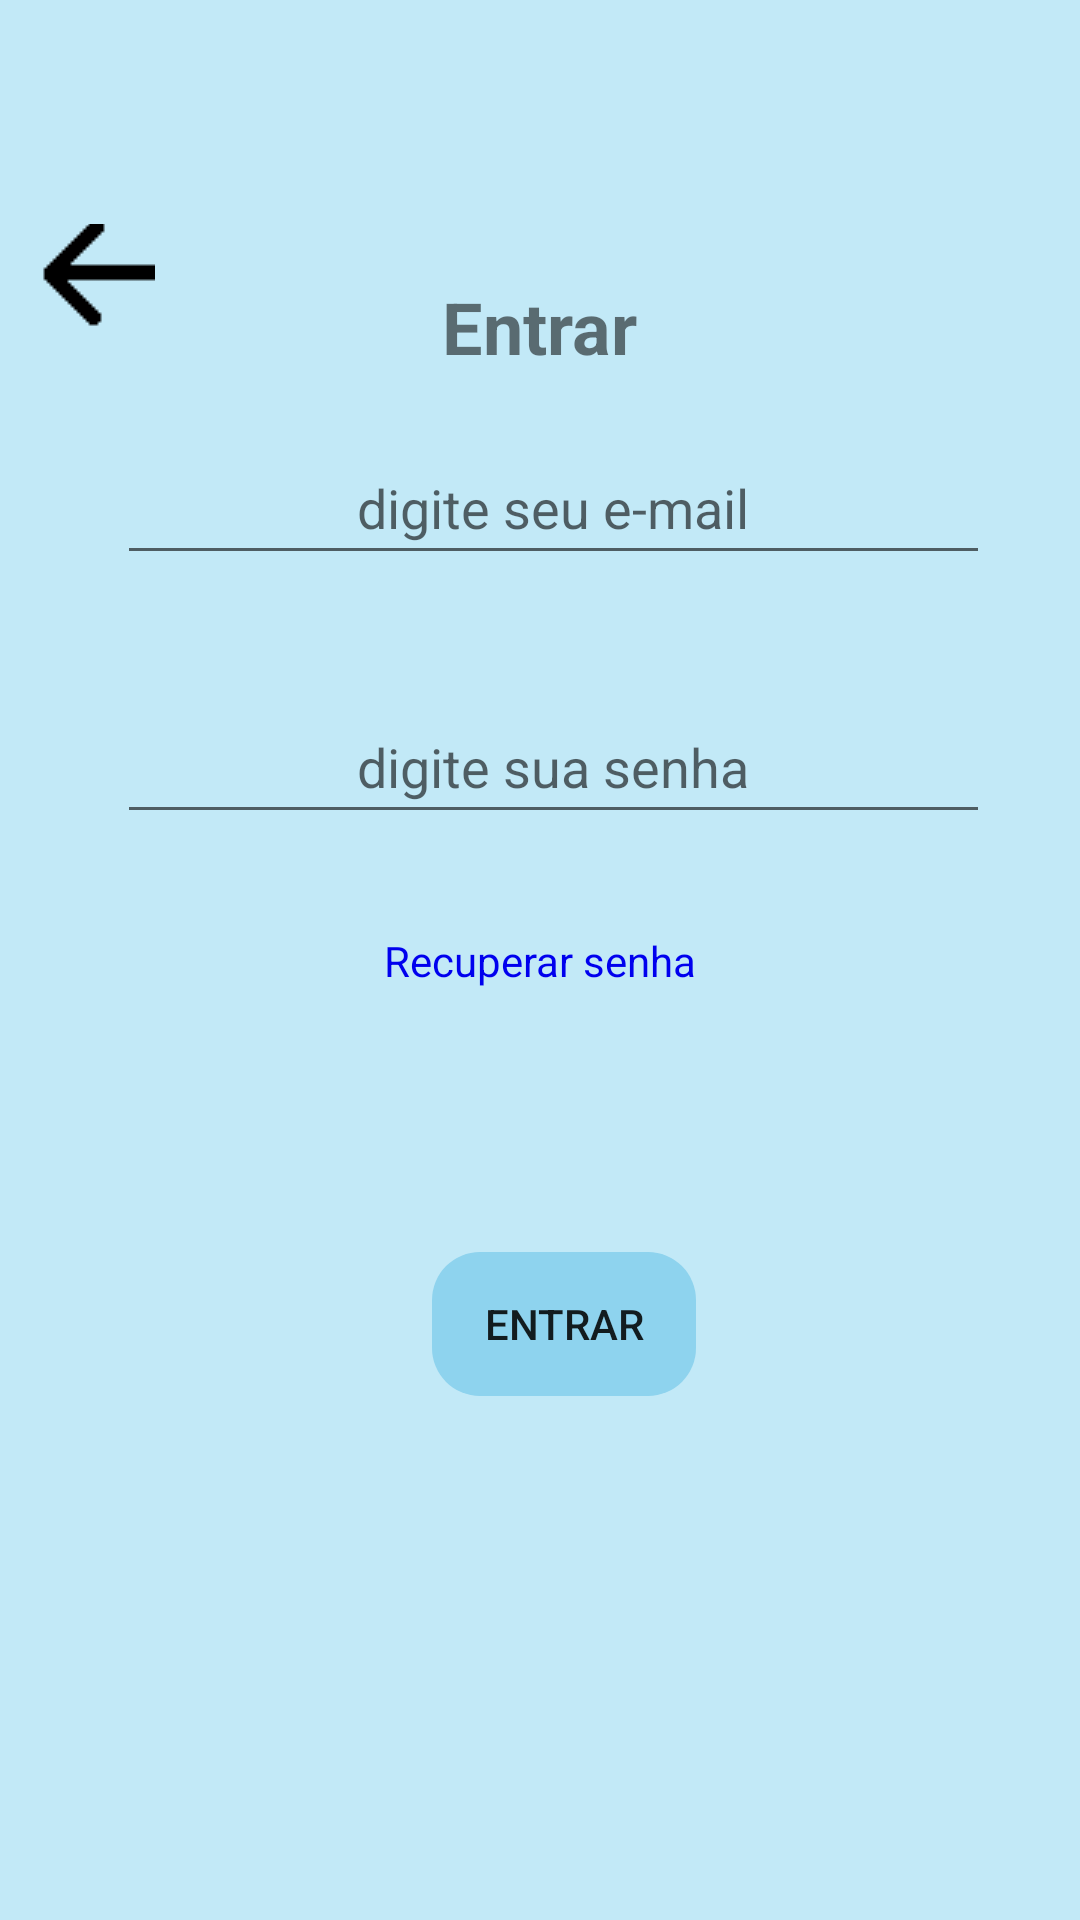

Named icons in this screenshot (1080 x 1920) and their bounding boxes, (x1, y1, x2, y2):
seta: (43, 224, 155, 326)
